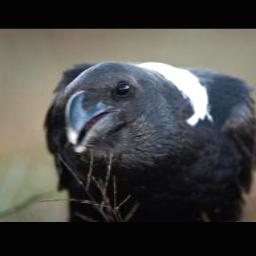Crow: (42, 59, 256, 217)
